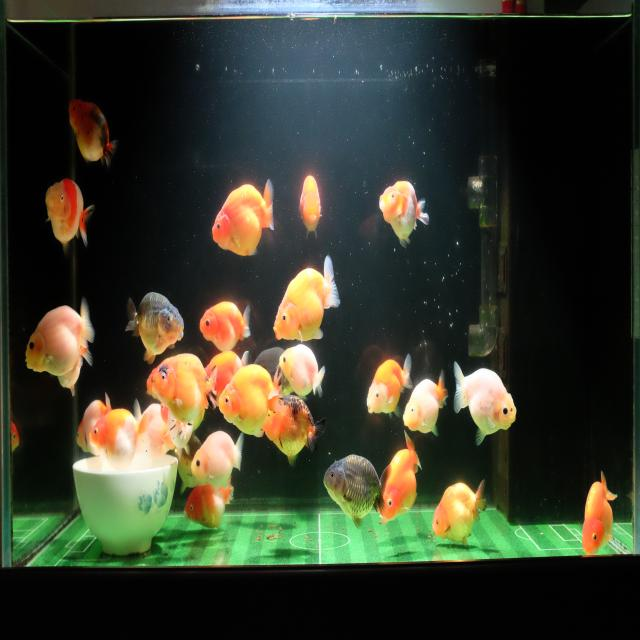Goldfish: (271, 254, 341, 344), (24, 295, 95, 378), (452, 359, 518, 448), (322, 450, 392, 532), (210, 178, 276, 259), (151, 351, 218, 426), (218, 364, 282, 442), (261, 394, 327, 466), (378, 427, 423, 526), (377, 176, 431, 253), (88, 405, 151, 470), (432, 477, 488, 548), (67, 95, 118, 170), (44, 176, 93, 254), (366, 351, 414, 422), (190, 428, 246, 488), (581, 468, 618, 556), (402, 368, 448, 437), (198, 300, 253, 353), (133, 395, 176, 462), (182, 477, 234, 531), (278, 344, 327, 400), (74, 390, 110, 458), (205, 348, 249, 394), (158, 401, 192, 459), (298, 170, 323, 245)
